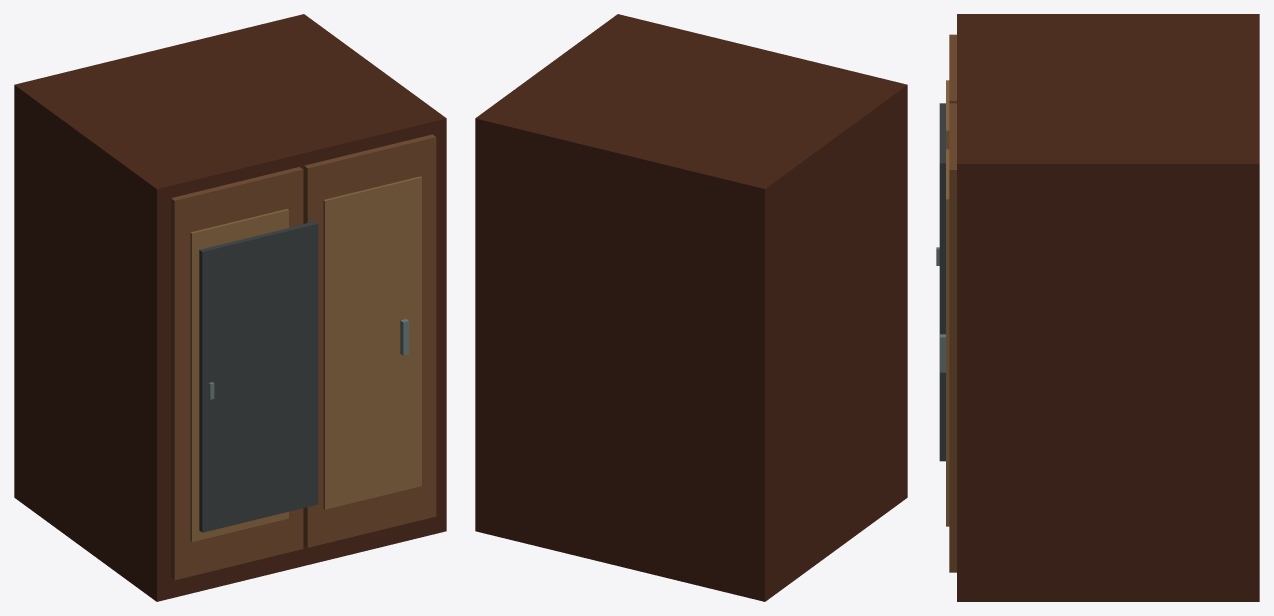
File: safe.glb
3 views of the same model, side by side, from view 1: azimuth 30°, elevation 25°; view 2: azimuth 150°, elevation 25°; view 3: azimuth 270°, elevation 25° (orthographic). The views are drawn at different scales.
Visible parts, largest first — view 1: body, door_right, door_safe, door_left; view 2: body; view 3: body, door_right, door_safe, door_left.
Boxes of the visible parts, x1,y1,x2,y2 form: body: (14,14,446,601); door_right: (304,134,436,547); door_safe: (199,221,318,532); door_left: (171,167,303,580); body: (475,14,907,601); body: (957,14,1259,601); door_right: (940,103,956,572); door_safe: (936,103,945,461); door_left: (946,34,956,149).
Size of the model in its own units: 0.873 by 1.19 by 0.7946.
Materials: 1 (1 with a texture image).
